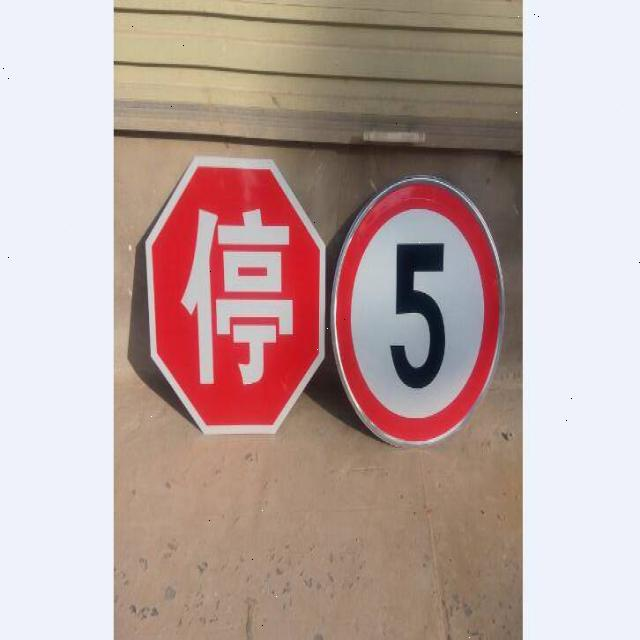speed limit 10: (329, 177, 506, 448)
